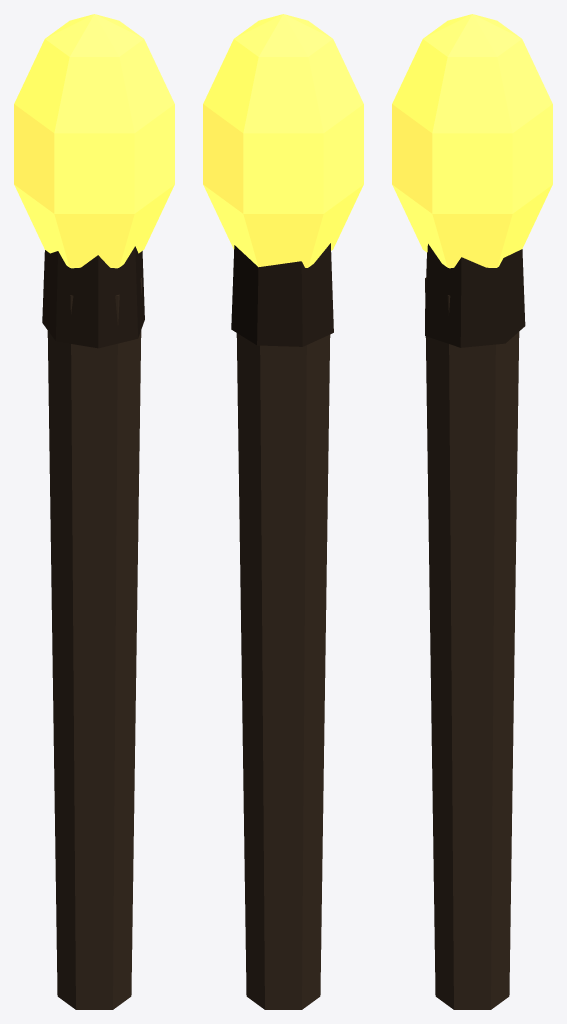
File: s3_torch_in_water.glb
3 views of the same model, side by side, from view 1: azimuth 30°, elevation 25°; view 2: azimuth 150°, elevation 25°; view 3: azimuth 270°, elevation 25° (orthographic).
Visible parts, largest first — view 1: s3_torch_in_water; view 2: s3_torch_in_water; view 3: s3_torch_in_water.
Part boxes in pixels (x1,y1,x2,y2): s3_torch_in_water: [14, 14, 174, 1009]; s3_torch_in_water: [203, 14, 363, 1009]; s3_torch_in_water: [392, 14, 552, 1009].
Bounding box in the file's own units: 0.2636 × 2.05 × 0.3043.
